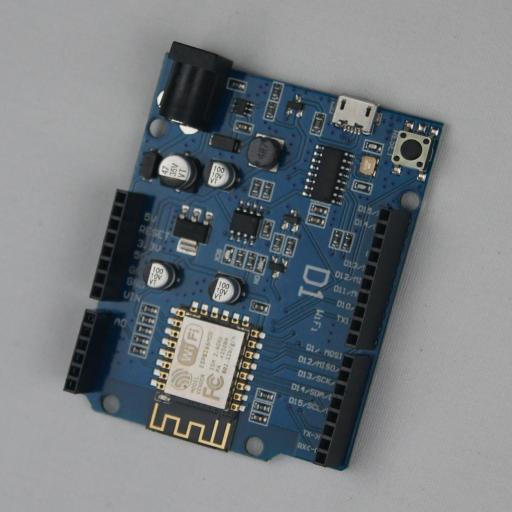Arduino Uno WiFi Shield: (63, 41, 444, 471)
